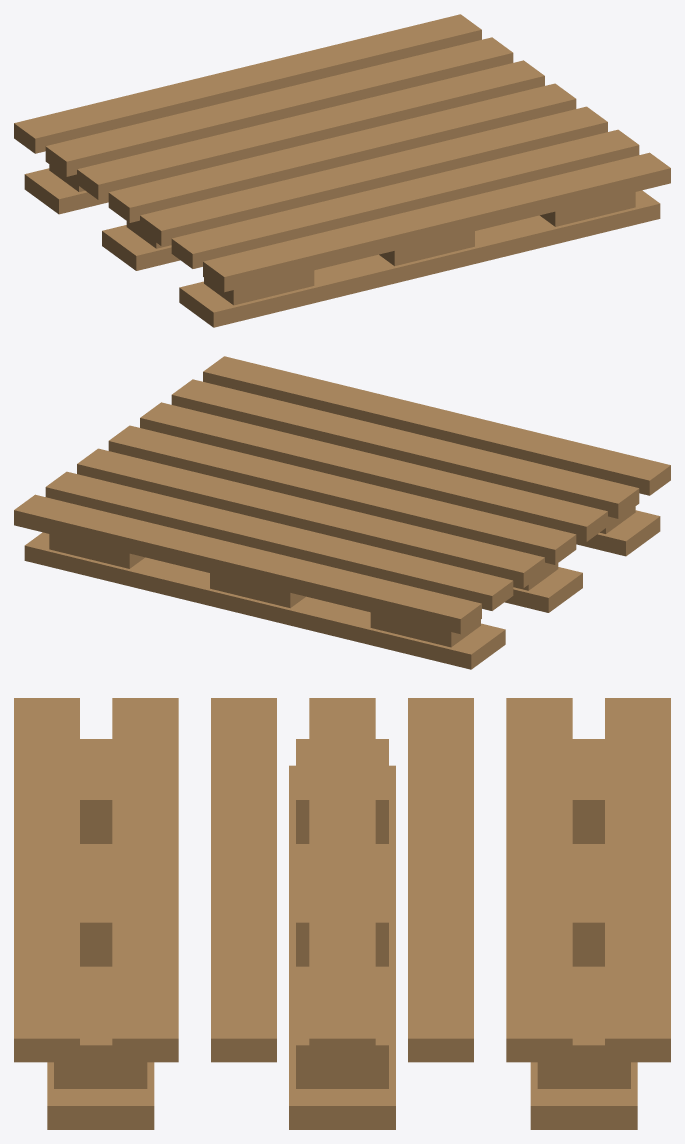
Rendered from pallet.glb.
The picture shows the model from 3 angles, top to bottom: view 1: azimuth 30°, elevation 25°; view 2: azimuth 150°, elevation 25°; view 3: azimuth 270°, elevation 25°; orthographic projection. The views are drawn at different scales.
Visible parts, largest first — view 1: ForgeCore item; view 2: ForgeCore item; view 3: ForgeCore item.
Boxes of the visible parts, x1=… form: ForgeCore item: x1=14, y1=14, x2=670, y2=327; ForgeCore item: x1=14, y1=356, x2=670, y2=669; ForgeCore item: x1=14, y1=698, x2=670, y2=1129.
Size of the model in its own units: 1.2 by 0.15 by 0.9785.
